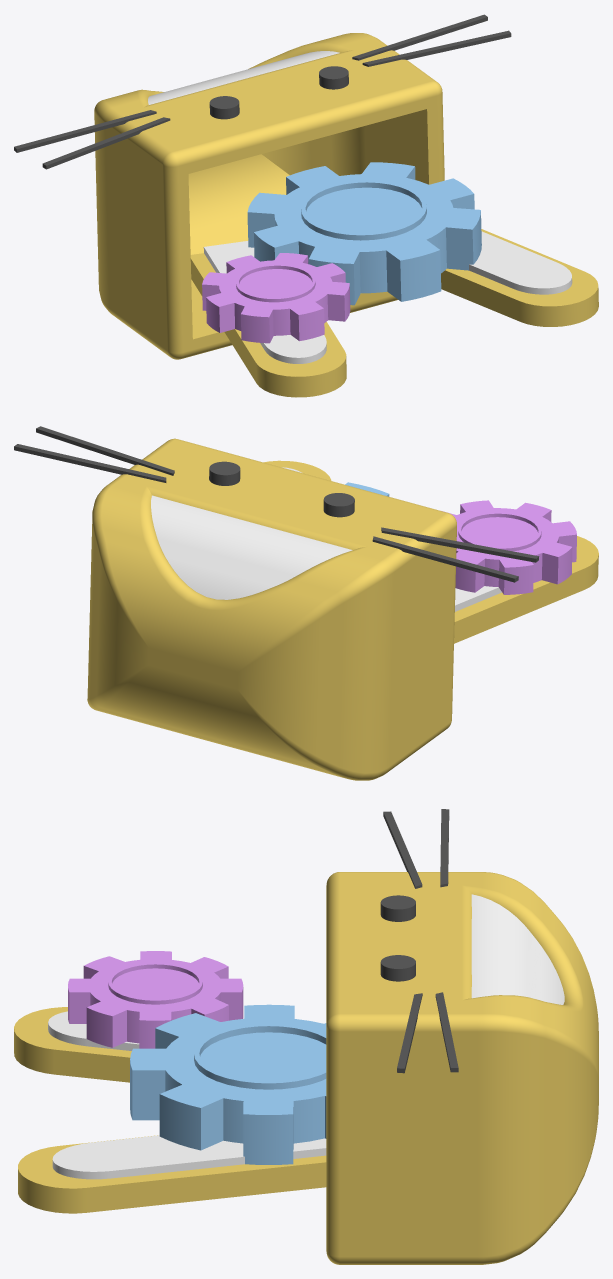
File: DitoRabbit.gltf
3 views of the same model, one above another, from view 1: azimuth 30°, elevation 25°; view 2: azimuth 150°, elevation 25°; view 3: azimuth 270°, elevation 25° (orthographic). The views are drawn at different scales.
Parts seen in each view (by area): view 1: Body3, Body7, Body10, Body12, Body14, Body11, Body13, Body5, Body15, Body18, Body16, Body17 (+2 smaller); view 2: Body3, Body5, Body10, Body14, Body17, Body16, Body18, Body15, Body24, Body23, Body13, Body12; view 3: Body3, Body7, Body10, Body12, Body5, Body11, Body14, Body13, Body24, Body23, Body17, Body15 (+2 smaller).
Boxes of the visible parts, left/top/right/bottom form: Body3: left=94, top=33, right=444, bottom=359; Body7: left=247, top=162, right=481, bottom=305; Body10: left=202, top=253, right=350, bottom=343; Body12: left=441, top=229, right=598, bottom=326; Body14: left=190, top=253, right=346, bottom=397; Body11: left=469, top=231, right=572, bottom=294; Body13: left=203, top=241, right=326, bottom=363; Body5: left=148, top=51, right=339, bottom=104; Body15: left=362, top=30, right=511, bottom=66; Body18: left=14, top=110, right=156, bottom=152; Body16: left=352, top=14, right=487, bottom=60; Body17: left=42, top=117, right=170, bottom=169; Body3: left=87, top=438, right=456, bottom=780; Body5: left=151, top=495, right=352, bottom=599; Body10: left=442, top=500, right=576, bottom=594; Body14: left=454, top=536, right=598, bottom=643; Body17: left=381, top=527, right=539, bottom=562; Body16: left=14, top=444, right=166, bottom=482; Body18: left=372, top=536, right=518, bottom=582; Body15: left=36, top=426, right=174, bottom=475; Body24: left=323, top=493, right=354, bottom=517; Body23: left=209, top=461, right=240, bottom=485; Body13: left=455, top=586, right=501, bottom=611; Body12: left=263, top=460, right=331, bottom=480; Body3: left=326, top=872, right=598, bottom=1264; Body7: left=130, top=1004, right=326, bottom=1164; Body10: left=68, top=951, right=243, bottom=1048; Body12: left=18, top=1135, right=326, bottom=1213; Body5: left=471, top=894, right=564, bottom=1004; Body11: left=52, top=1135, right=326, bottom=1179; Body14: left=14, top=1007, right=131, bottom=1082; Body13: left=48, top=1011, right=139, bottom=1050; Body24: left=380, top=895, right=415, bottom=921; Body23: left=380, top=955, right=415, bottom=981; Body17: left=383, top=811, right=422, bottom=888; Body15: left=397, top=993, right=422, bottom=1073.
Bounding box in the file's own units: 0.2397 × 0.1077 × 0.2147.
